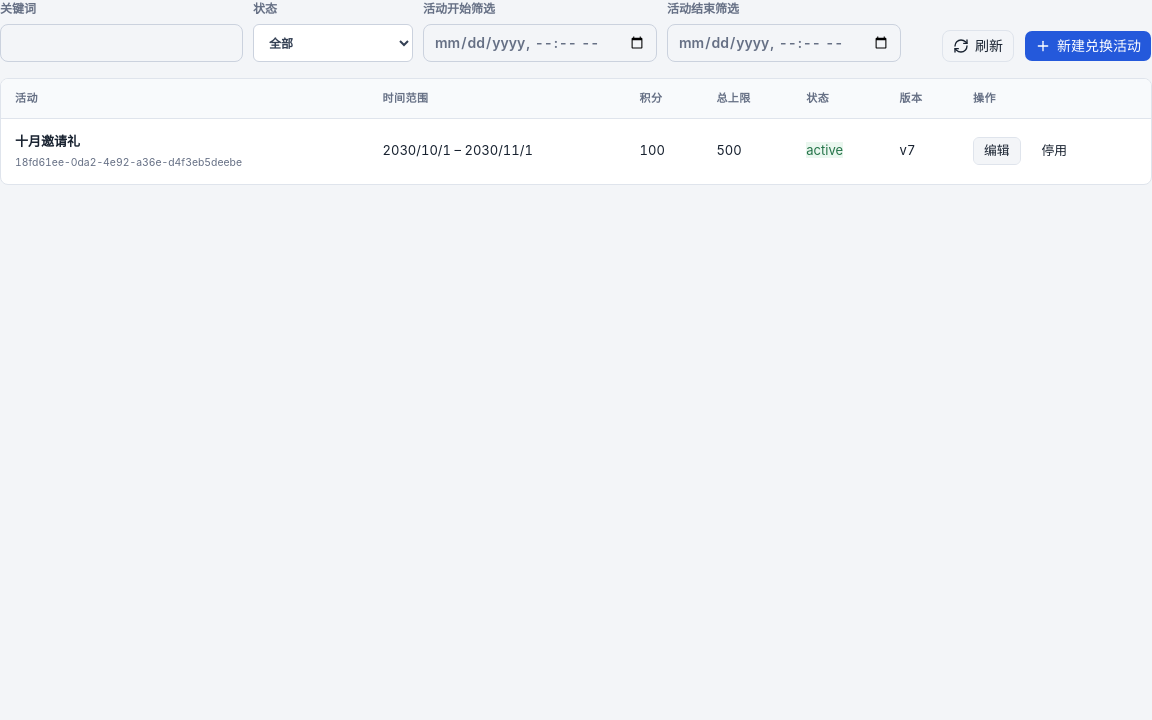
Test: updates campaigns with the current version and surfaces capacity rejection
The image size is (1152, 720).
Click the button with aria-label "编辑十月邀请礼": (997, 151) [973, 137, 1021, 165]
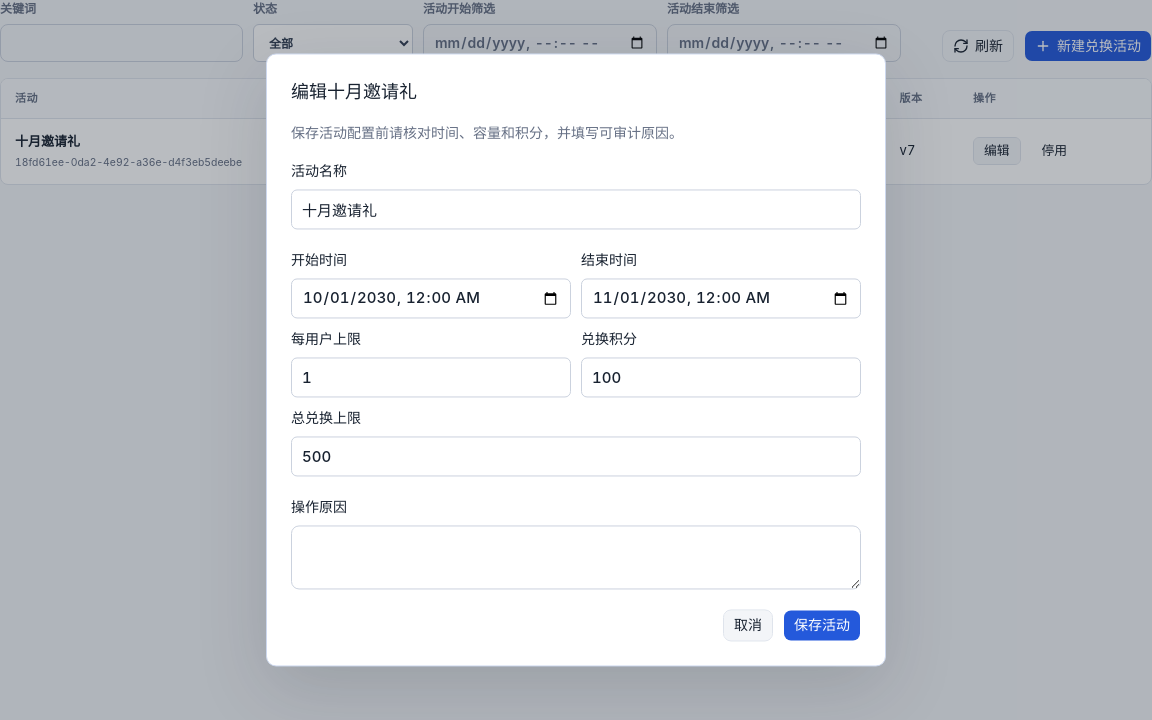
Replace the text in the number field labelled "总兑换上限" with "20": (576, 456) [291, 436, 861, 476]
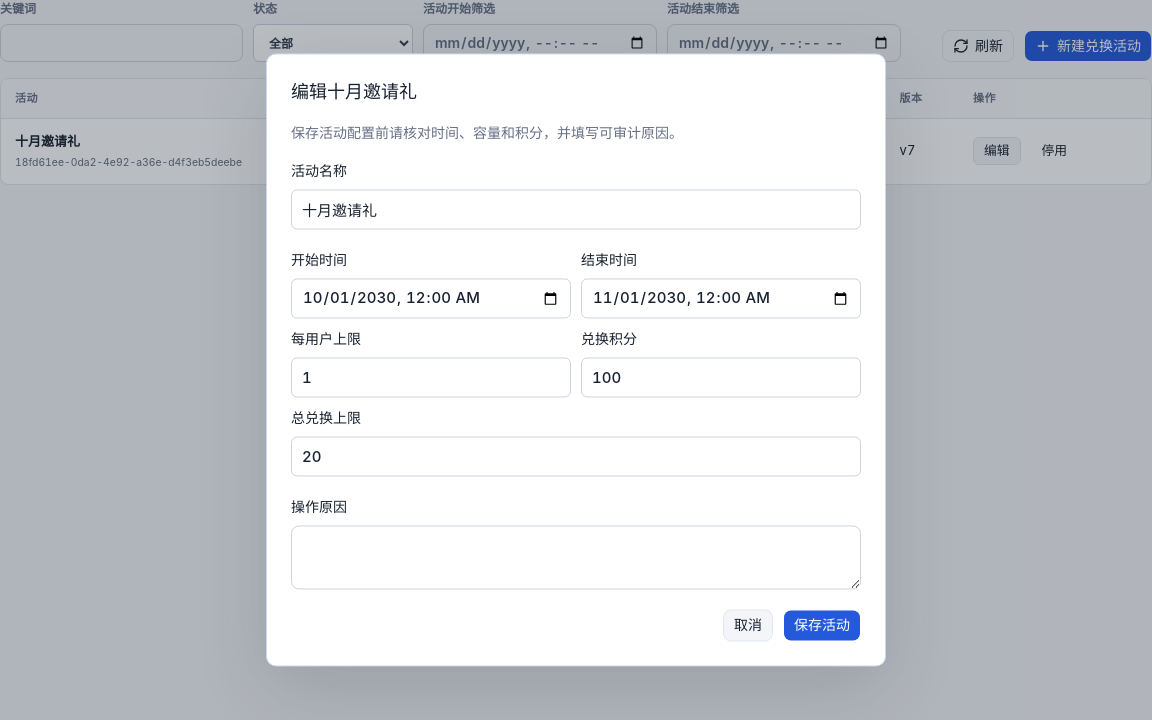
In the text box labelled "操作原因": (576, 558) [291, 526, 861, 590], type "按最新活动预算调整总量"
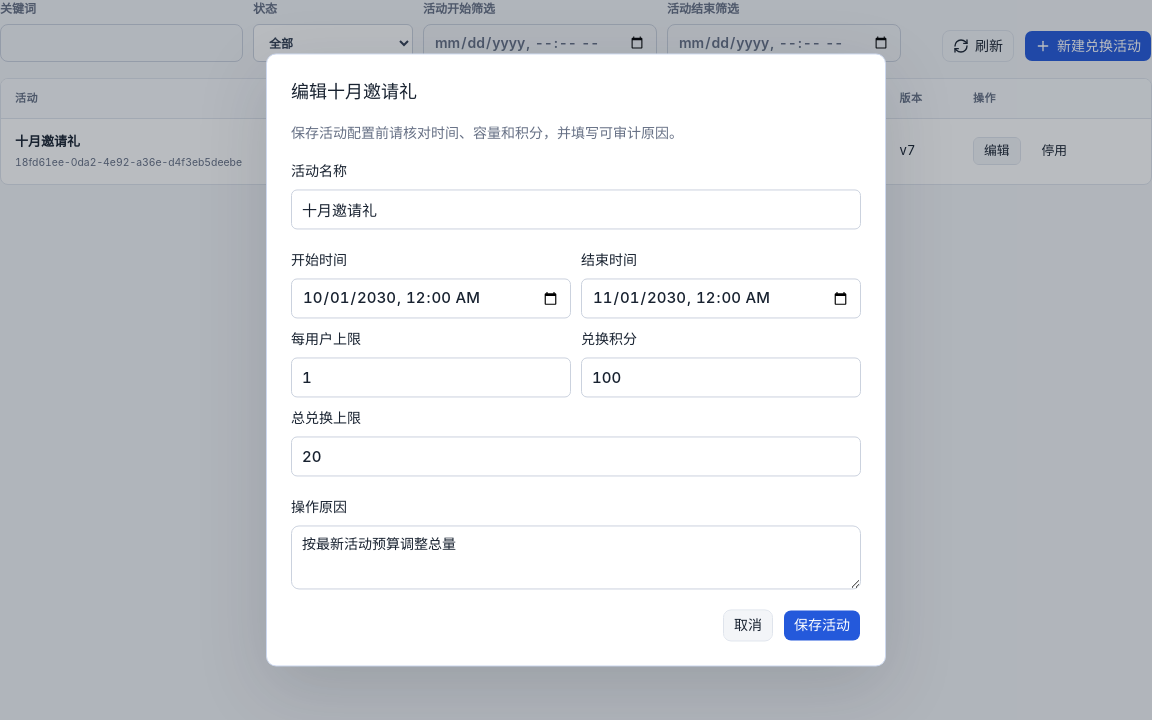
Click the button "保存活动": (822, 626) [783, 610, 861, 642]
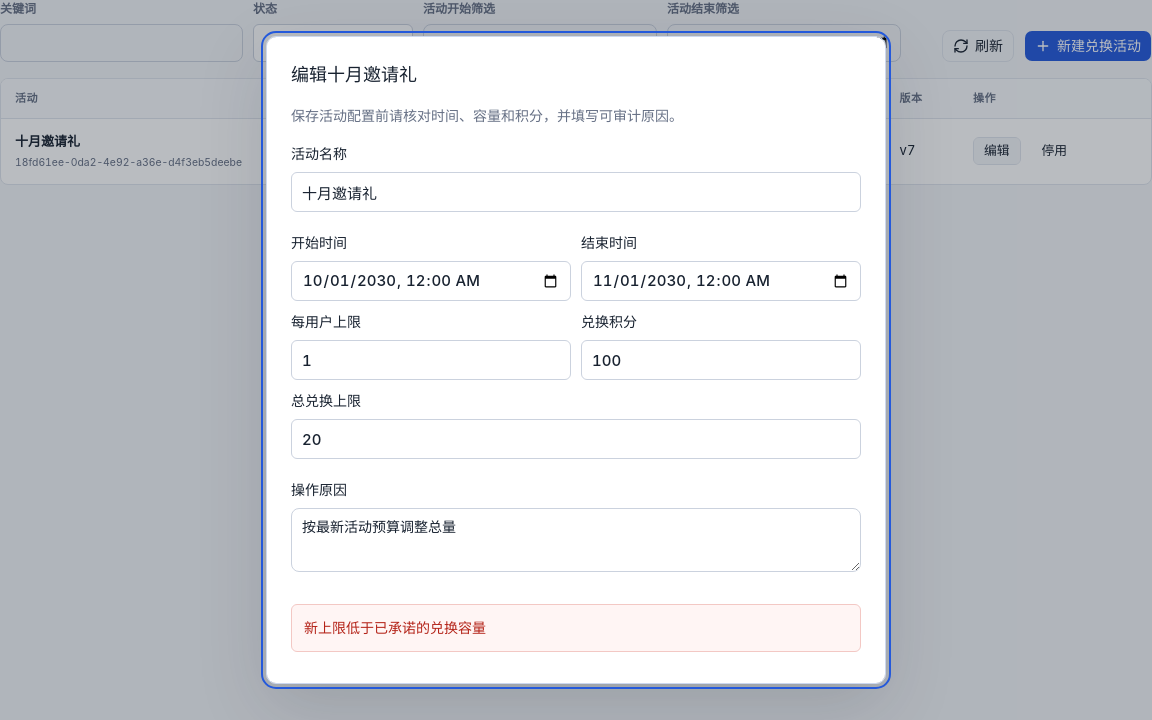
Expected: the message shows "低于已承诺的兑换容量", [304, 619, 486, 636]
